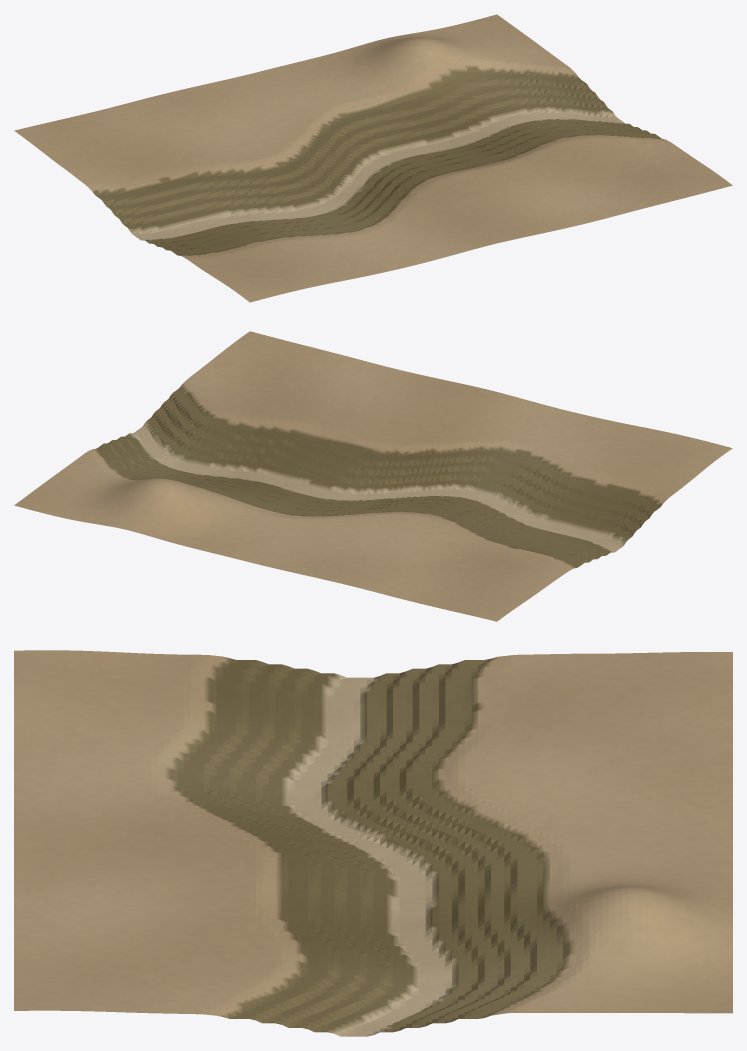
Rendered from terrain.glb.
3 renders of one model, top to bottom at view 1: azimuth 30°, elevation 25°; view 2: azimuth 150°, elevation 25°; view 3: azimuth 270°, elevation 25°, orthographic. The views are drawn at different scales.
Parts seen in each view (by area): view 1: Terrain; view 2: Terrain; view 3: Terrain.
Boxes of the visible parts, left/top/right/bottom form: Terrain: left=14, top=14, right=732, bottom=302; Terrain: left=14, top=331, right=732, bottom=621; Terrain: left=14, top=650, right=732, bottom=1036.
Bounding box in the file's own units: 260 × 20.34 × 220.
